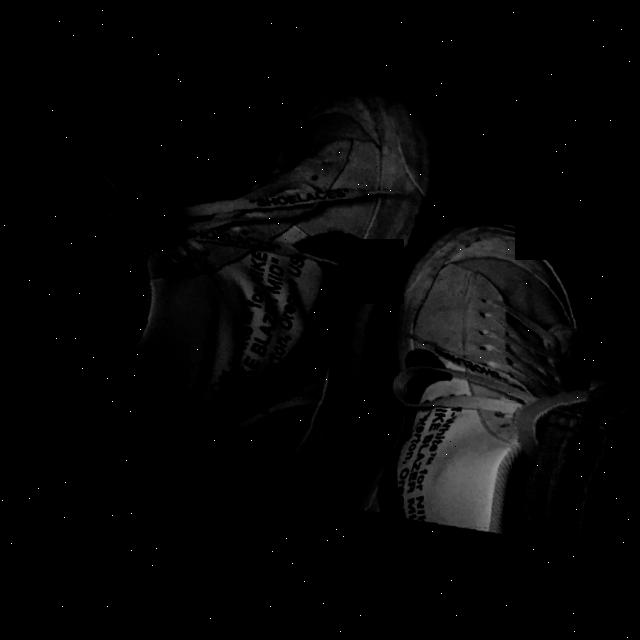shoe: (0, 11, 456, 526), (341, 191, 624, 557)
